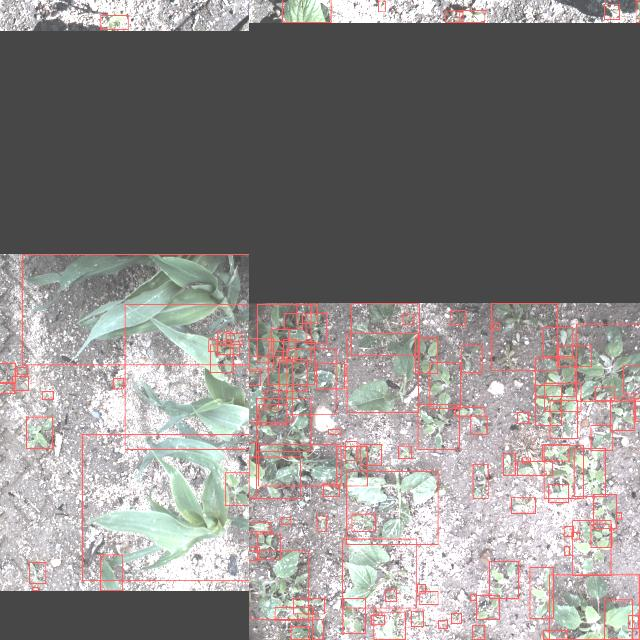crop: (21, 253, 249, 364), (81, 434, 249, 581), (124, 304, 249, 449), (347, 471, 438, 545), (347, 332, 418, 412), (342, 540, 416, 608), (350, 303, 418, 355), (281, 0, 330, 23), (374, 612, 404, 640), (100, 555, 122, 591)
weed: (548, 574, 638, 640), (575, 323, 640, 400), (491, 302, 557, 370), (249, 550, 308, 619), (258, 444, 340, 486), (286, 348, 336, 414), (256, 304, 310, 362), (256, 398, 310, 452), (249, 356, 292, 422), (543, 445, 583, 499), (249, 456, 300, 498), (572, 520, 610, 576), (267, 342, 313, 384), (418, 404, 458, 450), (534, 358, 574, 397), (574, 448, 604, 497), (428, 362, 459, 408), (529, 568, 553, 618), (336, 446, 366, 486), (488, 561, 518, 599), (604, 600, 632, 640), (544, 382, 580, 412), (535, 385, 561, 425), (550, 400, 576, 438), (542, 327, 572, 357), (279, 359, 307, 391), (224, 472, 249, 505), (592, 494, 616, 528), (26, 417, 52, 448), (415, 337, 437, 373), (342, 598, 364, 634), (609, 398, 633, 430), (249, 338, 272, 370), (316, 364, 344, 388), (558, 346, 590, 366), (256, 534, 280, 560), (210, 344, 232, 372), (306, 313, 326, 343), (461, 344, 482, 372), (516, 460, 552, 476), (476, 594, 498, 620), (258, 404, 286, 424), (472, 464, 488, 498), (590, 524, 612, 548), (590, 426, 612, 450), (292, 598, 324, 614), (622, 365, 640, 393), (274, 608, 312, 620), (360, 444, 380, 466), (351, 514, 375, 532), (270, 328, 288, 352), (100, 15, 128, 30), (542, 445, 568, 461), (296, 303, 316, 323), (249, 442, 256, 497), (511, 497, 535, 513), (548, 484, 568, 502), (29, 562, 45, 584), (282, 338, 296, 362), (262, 390, 278, 410), (454, 406, 484, 416), (460, 11, 484, 23), (470, 416, 486, 434), (284, 313, 302, 329), (217, 332, 230, 354), (0, 363, 14, 383), (594, 387, 614, 401), (217, 342, 239, 354), (503, 453, 515, 475), (290, 626, 308, 640), (542, 630, 566, 640), (344, 442, 356, 461), (604, 4, 618, 20), (12, 376, 28, 390), (444, 11, 462, 23), (419, 592, 437, 604), (249, 522, 270, 532), (312, 620, 322, 640), (450, 310, 464, 324), (323, 484, 339, 496), (472, 626, 484, 640), (411, 612, 423, 626), (225, 334, 241, 344), (0, 382, 14, 393), (249, 371, 260, 385), (398, 446, 410, 458), (384, 590, 396, 602), (316, 516, 326, 530), (628, 615, 638, 629), (371, 615, 384, 625), (516, 412, 528, 422), (249, 547, 258, 560), (402, 314, 413, 324), (113, 378, 123, 388), (451, 614, 461, 624), (563, 526, 573, 536), (208, 339, 216, 351), (42, 391, 52, 399), (437, 621, 447, 629), (417, 584, 425, 594), (328, 428, 340, 434), (378, 1, 384, 12), (571, 532, 579, 540), (16, 368, 26, 374), (280, 518, 290, 524), (492, 323, 500, 329), (564, 546, 568, 556), (522, 458, 530, 462), (616, 512, 620, 520), (470, 596, 476, 600), (32, 588, 38, 590)
